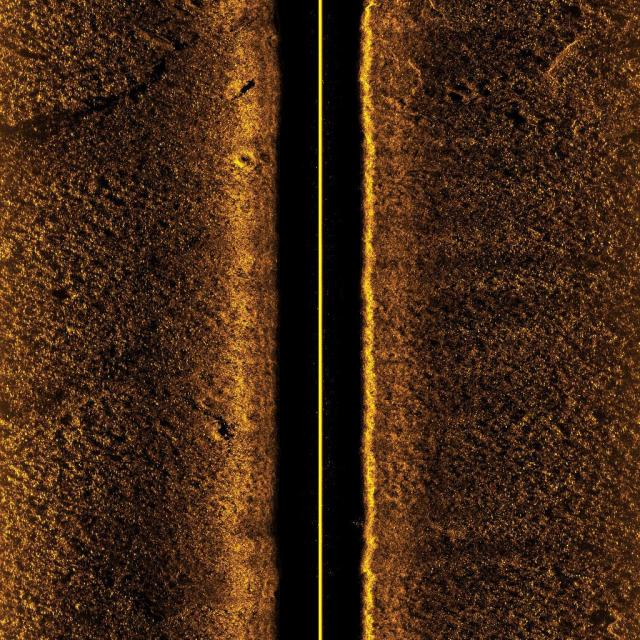mine: (232, 151, 256, 171)
